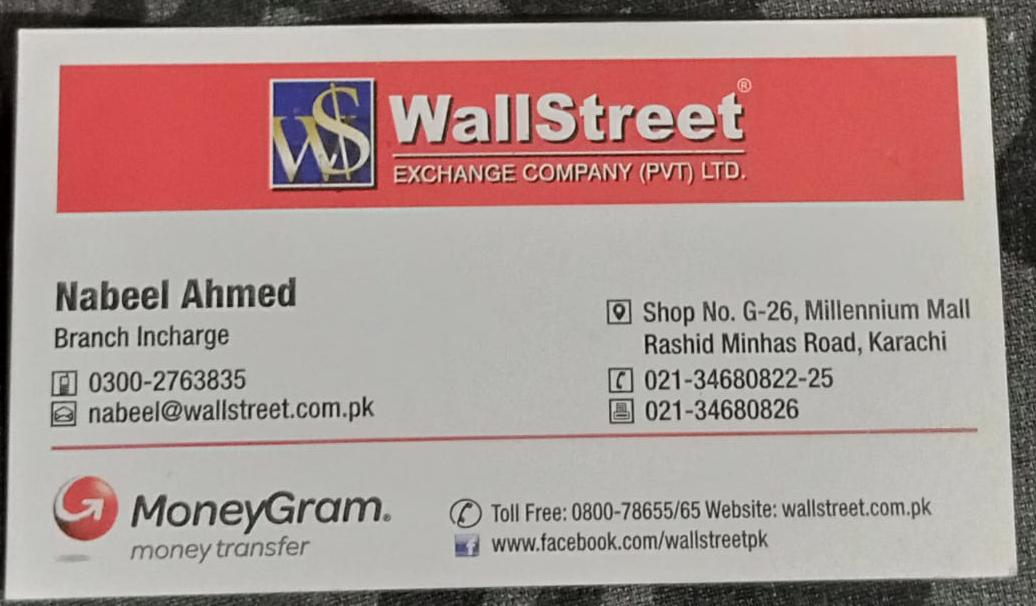alphabetical: (380, 86, 748, 144), (50, 273, 301, 312), (84, 395, 386, 425)
numerical: (642, 365, 841, 395), (86, 365, 252, 395), (644, 396, 805, 422)
